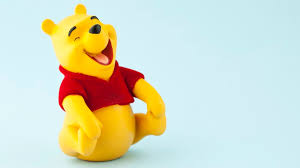Winnie: (36, 1, 147, 108)
